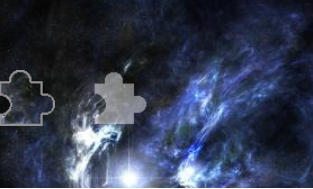target: (91, 71, 148, 126)
